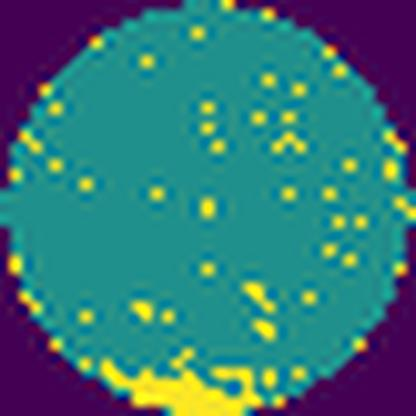Edge-Loc: (96, 341, 264, 416)
